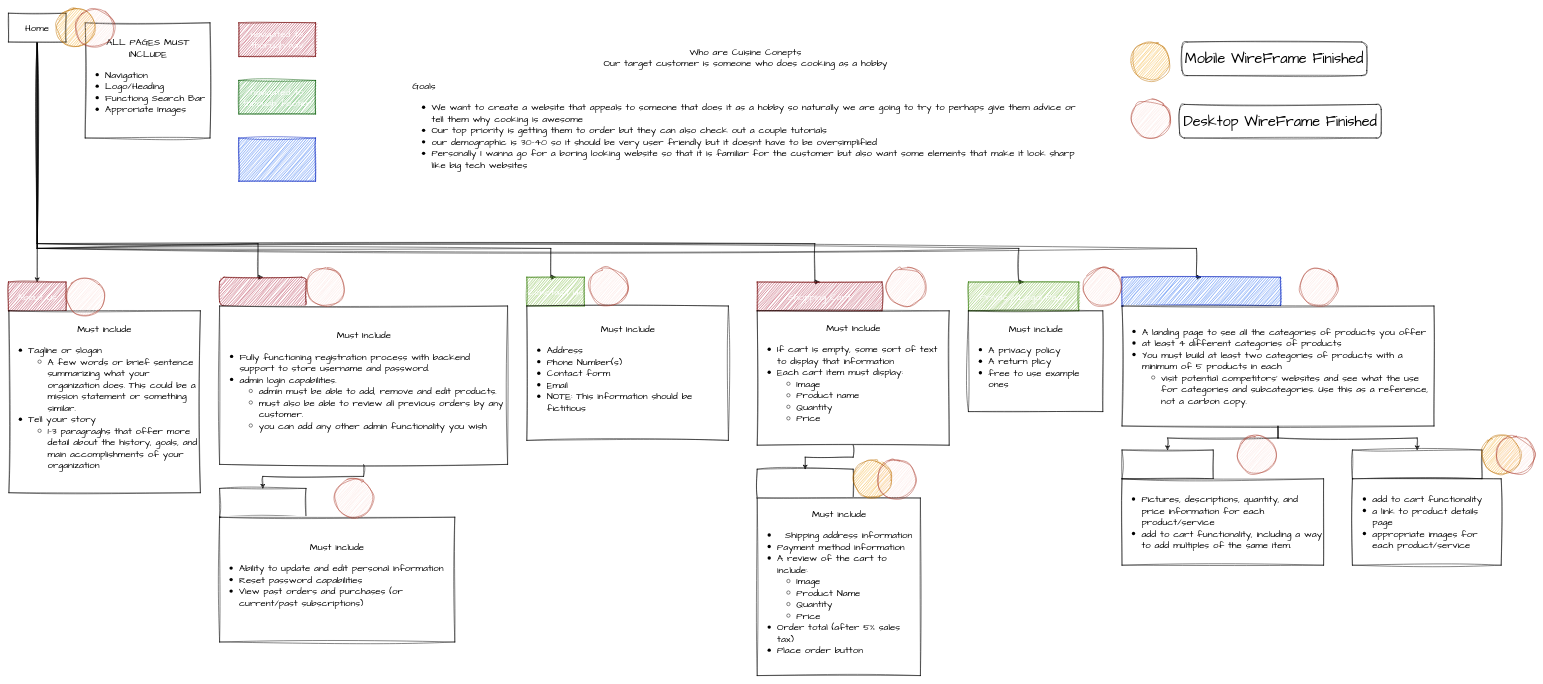
The diagram is 1543 pixels wide and 684 high, and some of its shapes have lost their labels. Here are the shapes that lost their labels. From the top down, the centre of each, then its label:
(277,159): navigated from nav or home page
(262,291): Register/Login
(1201,291): Product Categories Page
(805,483): Checkout Page
(1167,464): Product Pages
(1417,464): Category Page
(262,502): Account Page
